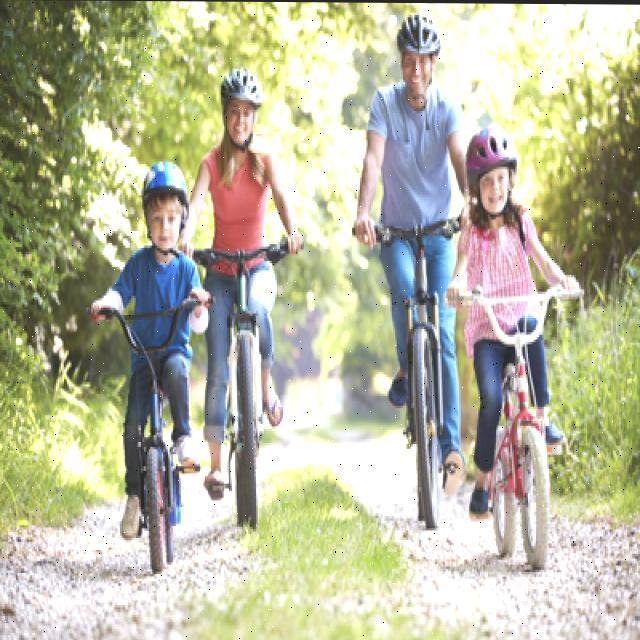Helmet: (464, 118, 518, 214), (388, 12, 447, 94), (140, 159, 190, 248), (218, 64, 266, 148)
